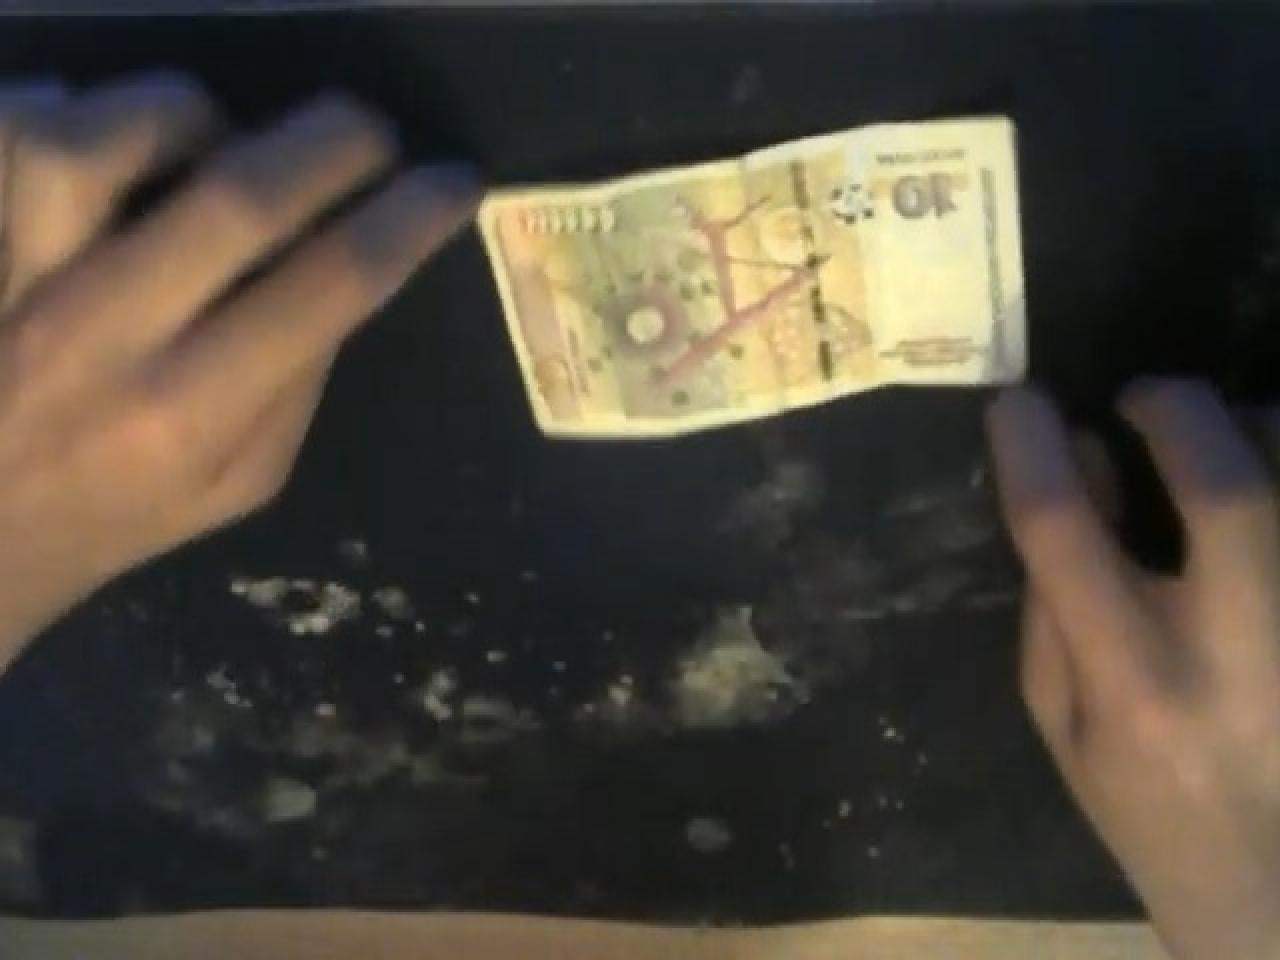10leva: (476, 115, 1028, 437)
